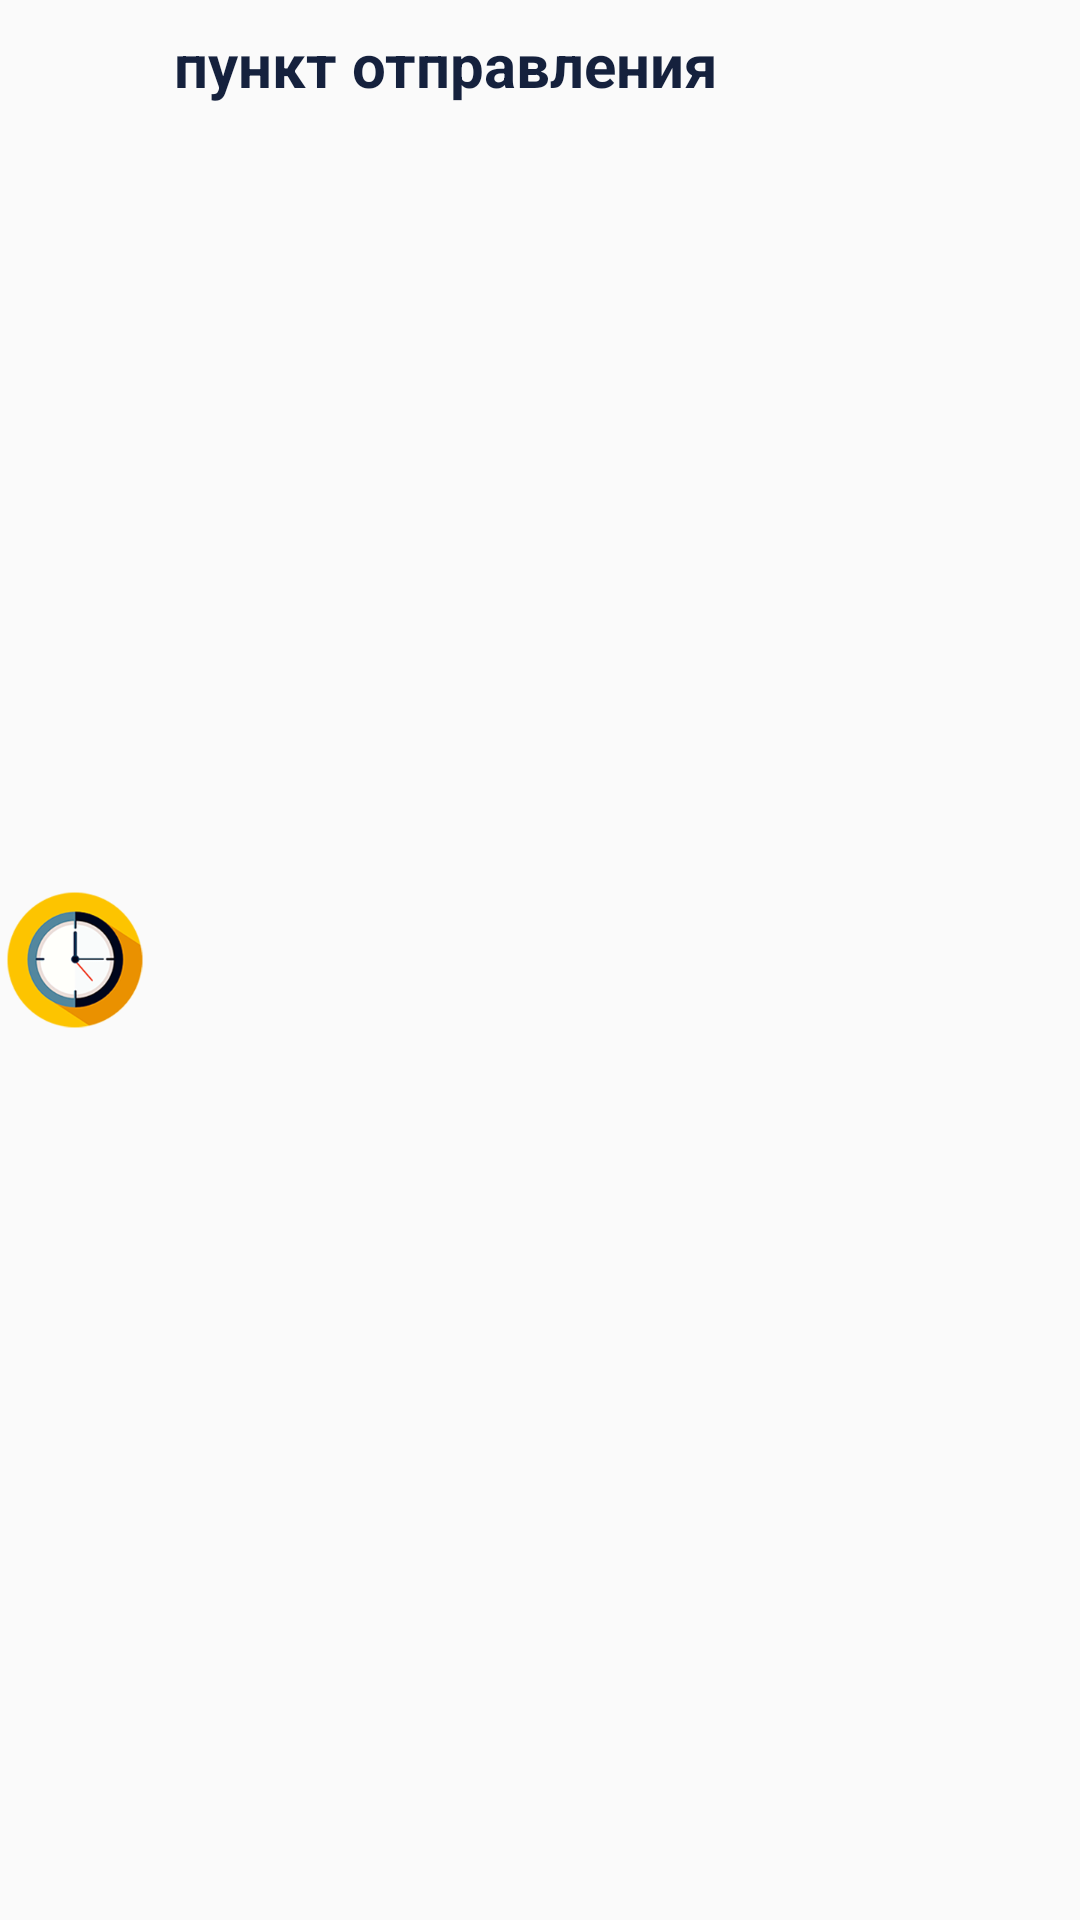

Where to tap for icons on this 1080 × 1920 app screen, as (x=x, y=y):
clock: (x=75, y=960)
